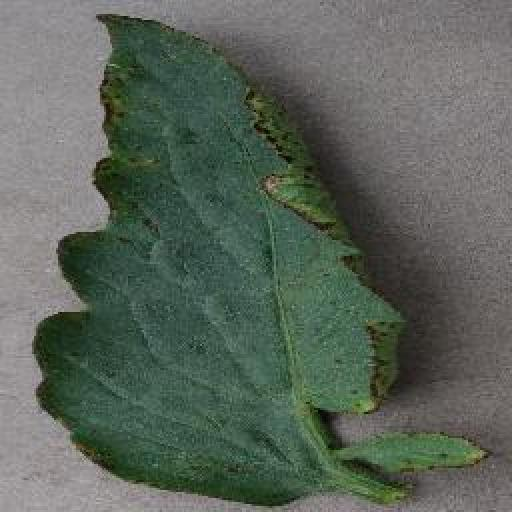Bacterial Spot: (25, 0, 512, 512)
